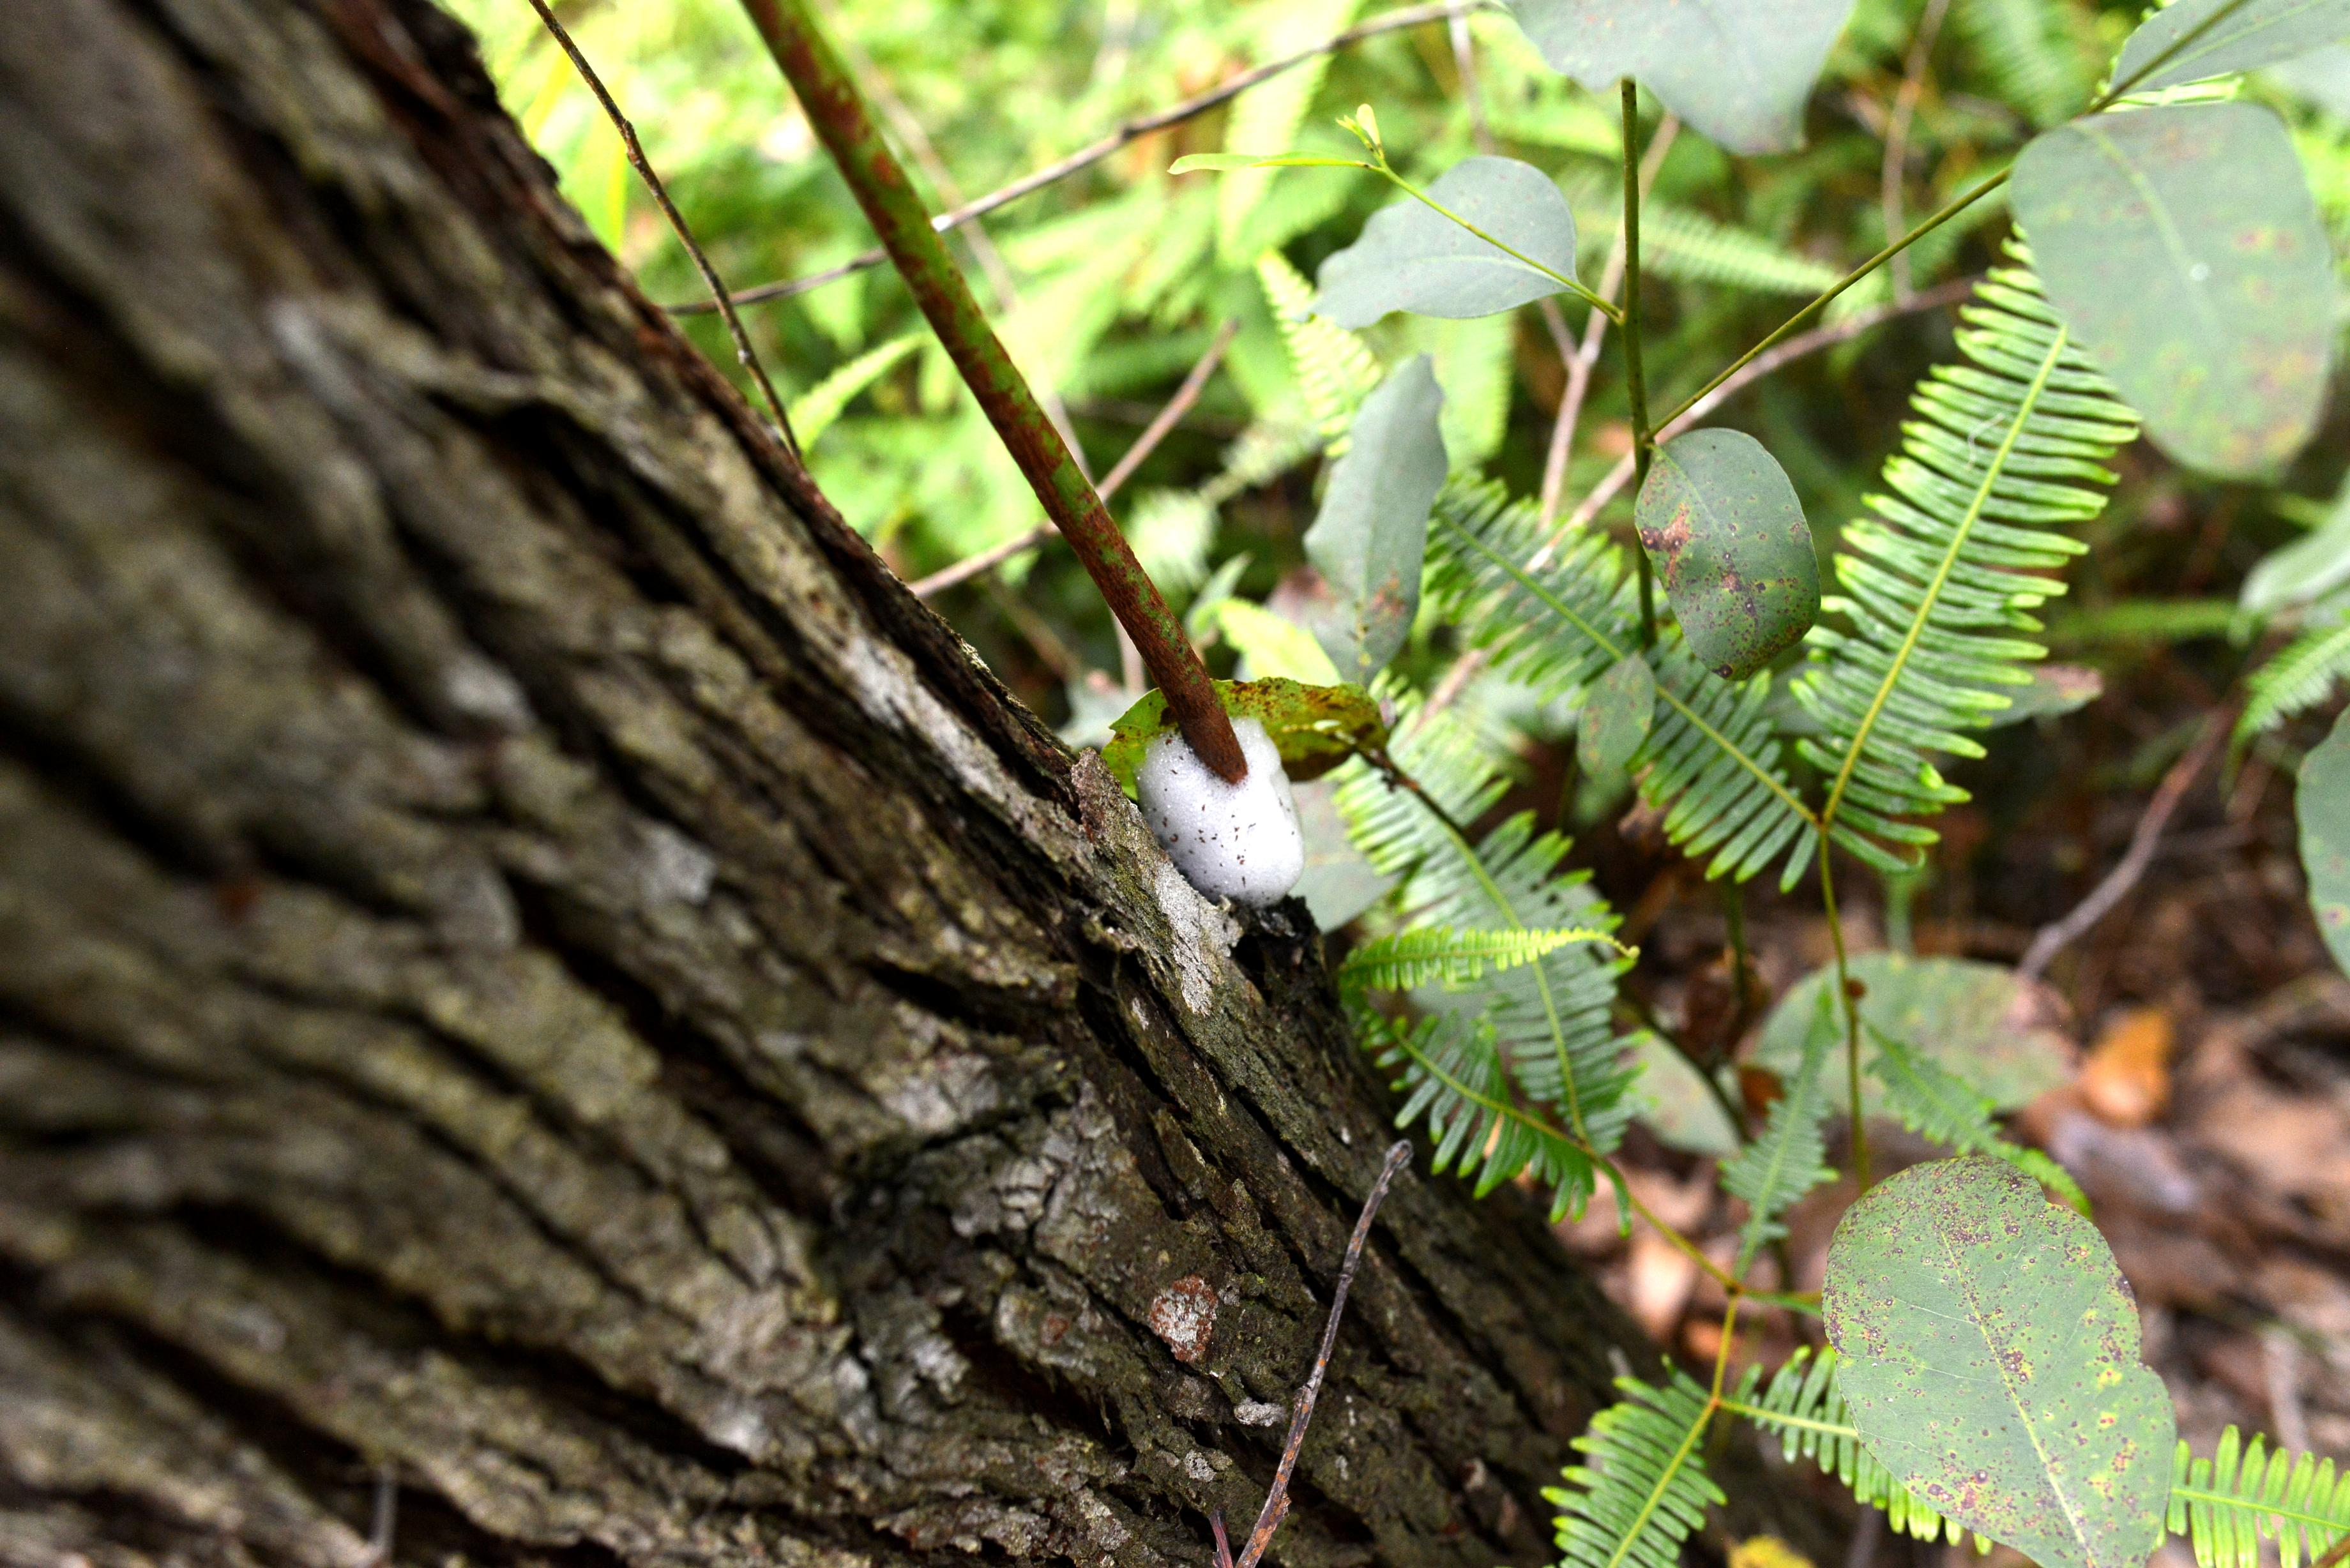Ceratocystis - Bubble: (1141, 712, 1309, 906)
